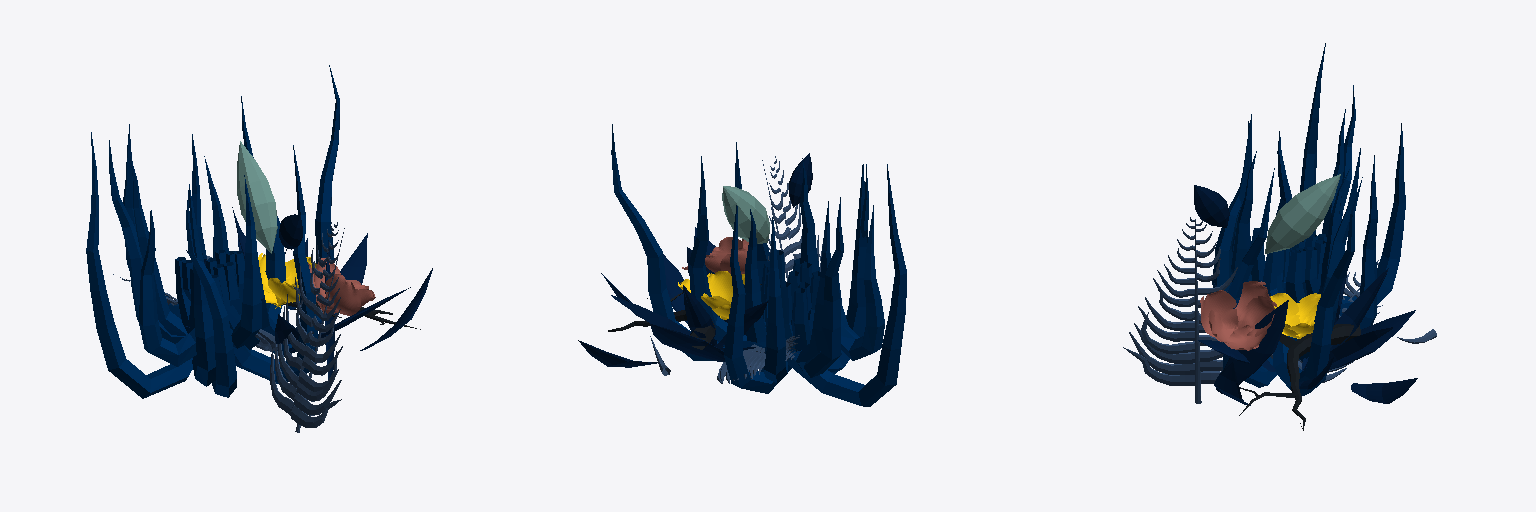
Rendered from tropicale.obj.
3 views of the same model, side by side, from view 1: azimuth 30°, elevation 25°; view 2: azimuth 150°, elevation 25°; view 3: azimuth 270°, elevation 25° (orthographic).
Visible parts, largest first — view 1: Plante_tropicale_bgroup1, bgroup2.001, bgroup2.002, bgroup3.004, Feuille_venée_1_bgroup1.001, Plane.004_Plane.000, Feuille_venée_2_bgroup1.002; view 2: Plante_tropicale_bgroup1, bgroup2.002, Feuille_venée_1_bgroup1.001, Feuille_venée_2_bgroup1.002, bgroup3.003, Plane.003_Plane.001, bgroup2.001, bgroup3.004, bgroup7; view 3: Plante_tropicale_bgroup1, bgroup2.002, bgroup2.001, Feuille_venée_1_bgroup1.001, bgroup3.004, bgroup7, Feuille_venée_2_bgroup1.002, Plane.004_Plane.000, Plane_Plane.000, Fougere1_bgroup1.001, Plane.002_Plane.000, Plane.000.
Boxes of the visible parts, box(x1,y1,x2,y2) form: Plante_tropicale_bgroup1: box(86, 65, 339, 398); bgroup2.001: box(291, 222, 342, 427); bgroup2.002: box(184, 207, 432, 379); bgroup3.004: box(270, 222, 333, 415); Feuille_venée_1_bgroup1.001: box(237, 141, 277, 253); Plane.004_Plane.000: box(324, 274, 360, 315); Feuille_venée_2_bgroup1.002: box(279, 214, 302, 249); Plante_tropicale_bgroup1: box(611, 124, 906, 406); bgroup2.002: box(578, 227, 767, 367); Feuille_venée_1_bgroup1.001: box(722, 186, 769, 243); Feuille_venée_2_bgroup1.002: box(789, 153, 812, 207); bgroup3.003: box(717, 350, 794, 383); Plane.003_Plane.001: box(707, 271, 732, 303); bgroup2.001: box(774, 156, 822, 271); bgroup3.004: box(768, 166, 794, 272); bgroup7: box(608, 310, 715, 349); Plante_tropicale_bgroup1: box(1212, 43, 1405, 395); bgroup2.002: box(1198, 268, 1417, 405); bgroup2.001: box(1123, 217, 1195, 385); Feuille_venée_1_bgroup1.001: box(1265, 174, 1340, 253); bgroup3.004: box(1196, 220, 1237, 383); bgroup7: box(1287, 324, 1360, 430); Feuille_venée_2_bgroup1.002: box(1194, 185, 1229, 227); Plane.004_Plane.000: box(1200, 290, 1238, 336); Plane_Plane.000: box(1238, 296, 1276, 336); Fougere1_bgroup1.001: box(1195, 221, 1201, 403); Plane.002_Plane.000: box(1225, 325, 1266, 350); Plane.000: box(1235, 281, 1270, 320).
Size of the model in its own units: 1.96 by 1.78 by 1.73.